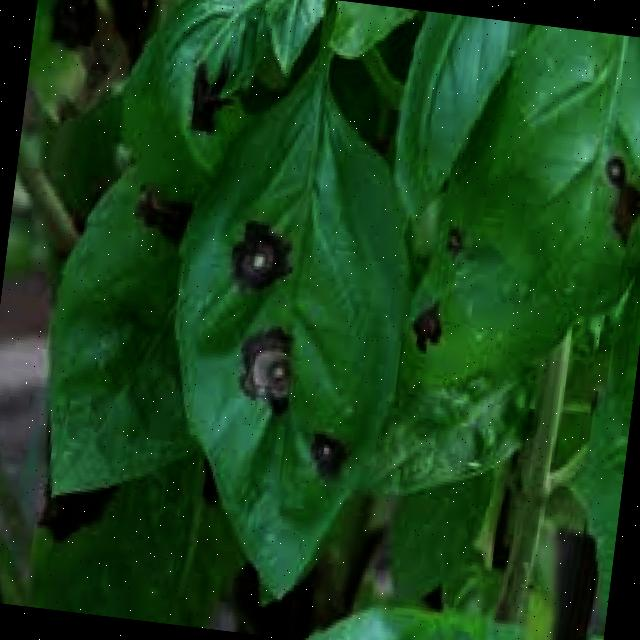leaf spot: (100, 72, 470, 636)
